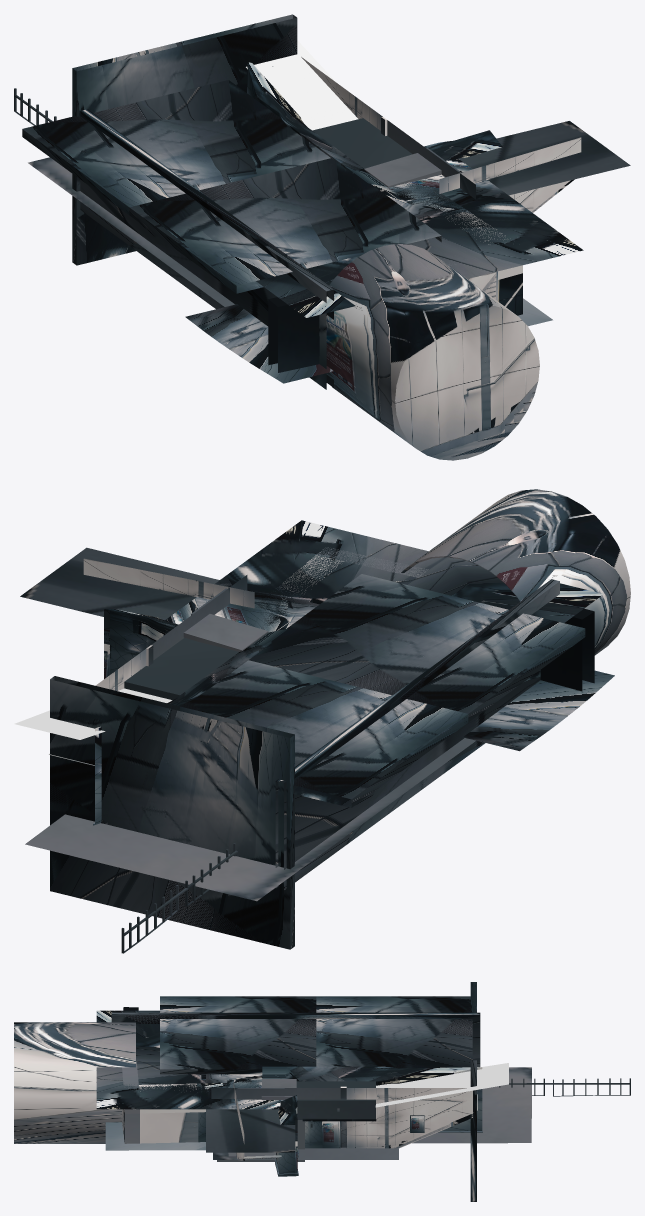
Rendered from subway-9808eb9a 2.glb.
3 renders of one model, top to bottom at view 1: azimuth 30°, elevation 25°; view 2: azimuth 150°, elevation 25°; view 3: azimuth 270°, elevation 25°, orthographic. The views are drawn at different scales.
Visible parts, largest first — view 1: Plane, Cube.011, Cube.005, Cube.025, Cube.035, Plane.001, Cube.018, Cube, Cube.012, Cube.010, Plane.003; view 2: Plane, Cube.011, Cube.005, Cube.012, Cube.025, Cube.035, Cube.018, Cube.010, Cube, Plane.003, Plane.002, Plane.001; view 3: Plane, Cube.011, Cube.010, Cube.012, Cube, Cube.025, Cube.018, Plane.001, Cube.035, Cube.005, Plane.002, Plane.003.
Part boxes in pixels (x1,y1,x2,y2): Plane: (185, 121, 630, 460); Cube.011: (22, 80, 441, 293); Cube.005: (72, 14, 297, 265); Cube.025: (80, 109, 333, 389); Cube.035: (424, 130, 581, 212); Plane.001: (246, 40, 358, 130); Cube.018: (312, 118, 412, 168); Cube: (247, 62, 386, 186); Cube.012: (28, 157, 234, 306); Cube.010: (301, 57, 475, 199); Plane.003: (364, 153, 441, 187); Plane: (20, 489, 630, 751); Cube.011: (180, 574, 585, 807); Cube.005: (50, 676, 294, 949); Cube.012: (25, 738, 475, 901); Cube.025: (275, 579, 559, 890); Cube.035: (83, 558, 254, 678); Cube.018: (124, 637, 238, 700); Cube.010: (95, 575, 247, 690); Cube: (93, 628, 287, 825); Plane.003: (183, 614, 268, 651); Plane.002: (121, 843, 237, 953); Plane.001: (14, 688, 172, 739); Plane: (14, 1007, 295, 1152); Cube.011: (160, 996, 472, 1074); Cube.010: (211, 1086, 472, 1161); Cube.012: (213, 1067, 531, 1159); Cube: (262, 1066, 482, 1132); Cube.025: (111, 1012, 480, 1067); Cube.018: (296, 1081, 375, 1119); Plane.001: (375, 1063, 508, 1107); Cube.035: (233, 1082, 298, 1176); Cube.005: (470, 982, 476, 1201); Plane.002: (499, 1078, 630, 1096); Plane.003: (261, 1079, 296, 1099).
Size of the model in its own units: 11.82 by 5.15 by 20.35.
Materials: 3 (2 with a texture image).
